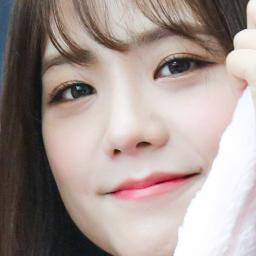face: (44, 0, 180, 256)
